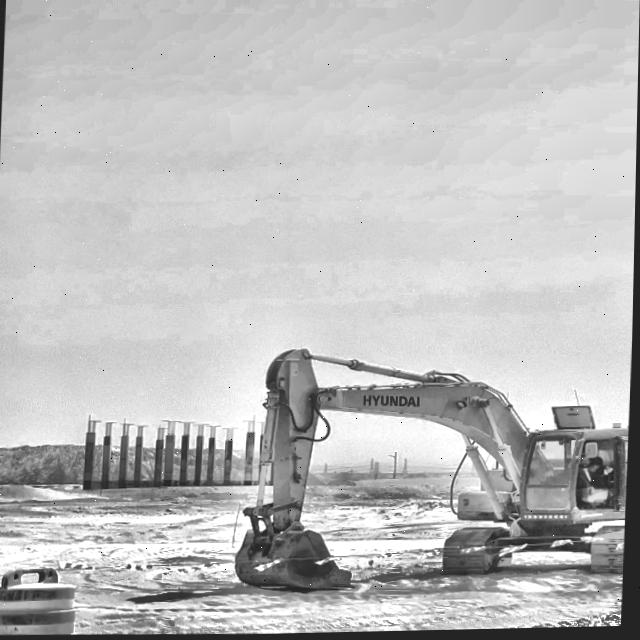excavator: (224, 320, 633, 636)
